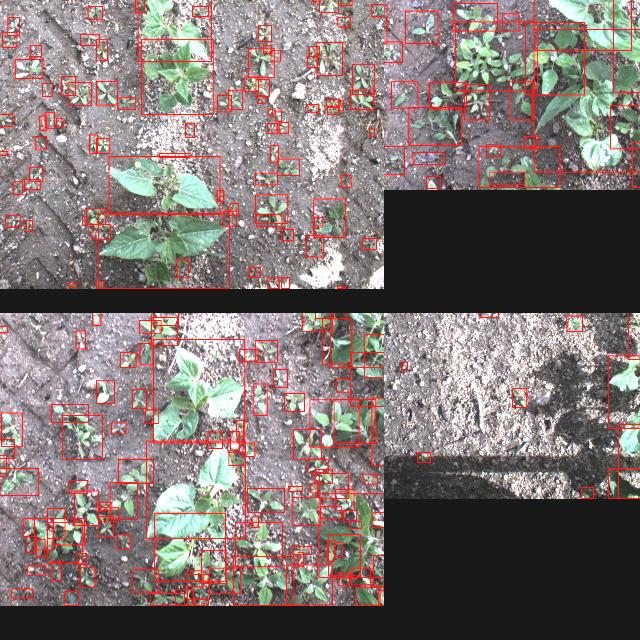crop: (533, 28, 640, 171), (98, 214, 230, 288), (147, 440, 246, 538), (153, 338, 245, 442), (108, 156, 220, 214), (142, 38, 212, 114), (154, 513, 226, 581), (534, 0, 631, 49), (137, 0, 210, 61), (613, 0, 640, 91), (608, 355, 640, 428), (618, 423, 640, 498), (608, 468, 640, 498)
weed: (455, 21, 537, 90), (318, 493, 384, 577), (526, 22, 584, 94), (478, 146, 560, 188), (234, 555, 294, 605), (330, 313, 384, 366), (310, 399, 358, 446), (235, 522, 282, 566), (408, 107, 462, 145), (334, 398, 376, 442), (62, 414, 102, 460), (286, 565, 332, 605), (351, 352, 384, 406), (322, 317, 352, 363), (48, 522, 82, 562), (328, 534, 360, 576), (610, 105, 640, 148), (452, 3, 498, 31), (314, 198, 344, 238), (406, 11, 438, 44), (0, 467, 38, 494), (110, 482, 138, 518), (429, 82, 466, 108), (464, 84, 490, 120), (256, 194, 288, 223), (364, 333, 384, 377), (118, 459, 154, 483), (74, 490, 98, 526), (248, 488, 284, 512), (293, 429, 321, 459), (510, 81, 532, 119), (317, 42, 343, 74), (53, 518, 85, 544), (202, 550, 226, 584), (372, 397, 384, 465), (292, 497, 321, 525), (209, 568, 241, 592), (248, 48, 274, 76), (151, 316, 177, 344), (319, 474, 349, 498), (1, 412, 22, 446), (392, 81, 418, 107), (352, 63, 374, 93), (52, 404, 88, 422), (34, 518, 54, 550), (133, 568, 159, 592), (384, 145, 405, 174), (187, 574, 209, 600), (15, 58, 43, 78), (68, 82, 92, 105), (47, 508, 65, 538), (96, 80, 118, 104), (302, 313, 332, 330), (255, 339, 277, 361), (350, 89, 374, 109), (356, 587, 380, 605), (490, 172, 524, 184), (150, 593, 184, 605), (284, 392, 304, 412), (278, 158, 300, 176), (96, 380, 114, 402), (412, 152, 443, 164), (384, 41, 402, 61), (254, 384, 266, 414), (336, 490, 354, 510), (373, 554, 384, 585), (86, 208, 106, 224), (306, 236, 322, 256), (98, 516, 114, 536), (256, 214, 282, 226), (352, 568, 371, 584), (60, 76, 76, 94), (92, 224, 110, 240), (175, 589, 193, 605), (186, 570, 204, 586), (315, 468, 333, 484), (0, 438, 15, 457), (229, 89, 243, 109), (99, 507, 119, 521), (80, 567, 94, 587), (273, 368, 287, 388), (132, 388, 146, 408), (308, 458, 328, 472), (153, 313, 178, 324), (502, 14, 518, 31), (513, 388, 527, 407), (255, 172, 277, 184), (140, 342, 152, 364), (70, 479, 88, 493), (321, 506, 342, 518), (96, 39, 108, 59), (140, 320, 160, 332), (217, 95, 231, 112), (256, 78, 270, 95), (319, 0, 338, 12), (258, 25, 272, 41), (120, 352, 136, 366), (208, 432, 222, 448), (566, 316, 582, 330), (8, 16, 20, 34), (118, 97, 136, 109), (177, 259, 189, 277), (240, 349, 258, 361), (80, 34, 100, 44), (230, 430, 240, 450), (12, 588, 32, 598), (23, 518, 34, 536), (2, 32, 16, 46), (88, 5, 102, 19), (96, 138, 110, 152), (245, 76, 259, 90), (64, 591, 78, 605), (145, 409, 159, 423), (336, 378, 350, 392), (30, 166, 42, 182), (224, 210, 236, 226), (524, 136, 540, 148), (229, 452, 245, 464), (76, 330, 86, 348), (27, 565, 45, 575), (6, 215, 20, 227), (362, 238, 376, 250), (426, 176, 440, 188), (486, 144, 500, 156), (118, 534, 130, 548), (243, 442, 255, 456), (373, 511, 384, 526), (51, 562, 60, 580), (24, 179, 40, 189), (192, 6, 208, 16), (45, 112, 55, 128), (26, 536, 36, 552), (292, 546, 312, 554), (327, 540, 335, 560), (371, 4, 384, 16), (112, 422, 126, 433), (338, 572, 349, 586), (270, 144, 278, 162), (0, 114, 12, 126), (30, 44, 42, 56), (89, 134, 97, 152), (281, 229, 293, 241), (42, 82, 52, 96), (363, 474, 377, 484), (158, 153, 190, 157), (236, 420, 244, 436), (36, 540, 44, 556), (0, 454, 6, 475), (341, 175, 351, 187), (36, 136, 46, 148), (338, 16, 350, 26), (344, 510, 356, 520), (582, 488, 594, 498), (418, 452, 430, 462), (186, 122, 194, 136), (335, 542, 343, 556), (279, 121, 289, 132), (135, 0, 145, 11), (100, 502, 112, 511), (377, 590, 384, 605), (268, 278, 278, 288), (250, 267, 260, 277), (271, 50, 281, 60), (267, 123, 277, 133), (307, 56, 317, 66), (309, 45, 319, 55), (314, 217, 324, 227), (76, 554, 86, 564), (91, 313, 100, 324), (14, 182, 22, 194), (40, 114, 46, 130), (230, 203, 238, 215), (349, 520, 361, 528), (326, 98, 338, 105), (298, 552, 304, 566), (281, 278, 289, 288), (216, 190, 224, 200), (308, 104, 318, 112), (328, 106, 338, 114), (310, 483, 318, 493), (479, 313, 498, 317), (275, 110, 281, 122), (196, 599, 208, 605), (56, 118, 64, 126), (263, 44, 271, 52), (26, 220, 32, 230), (252, 517, 258, 527), (288, 486, 302, 490), (0, 325, 7, 332), (69, 282, 77, 288), (96, 282, 104, 288), (258, 95, 264, 103), (401, 362, 407, 370), (339, 99, 343, 109), (82, 217, 86, 226), (370, 128, 374, 136), (0, 151, 7, 155), (268, 108, 272, 114), (338, 286, 346, 288)
